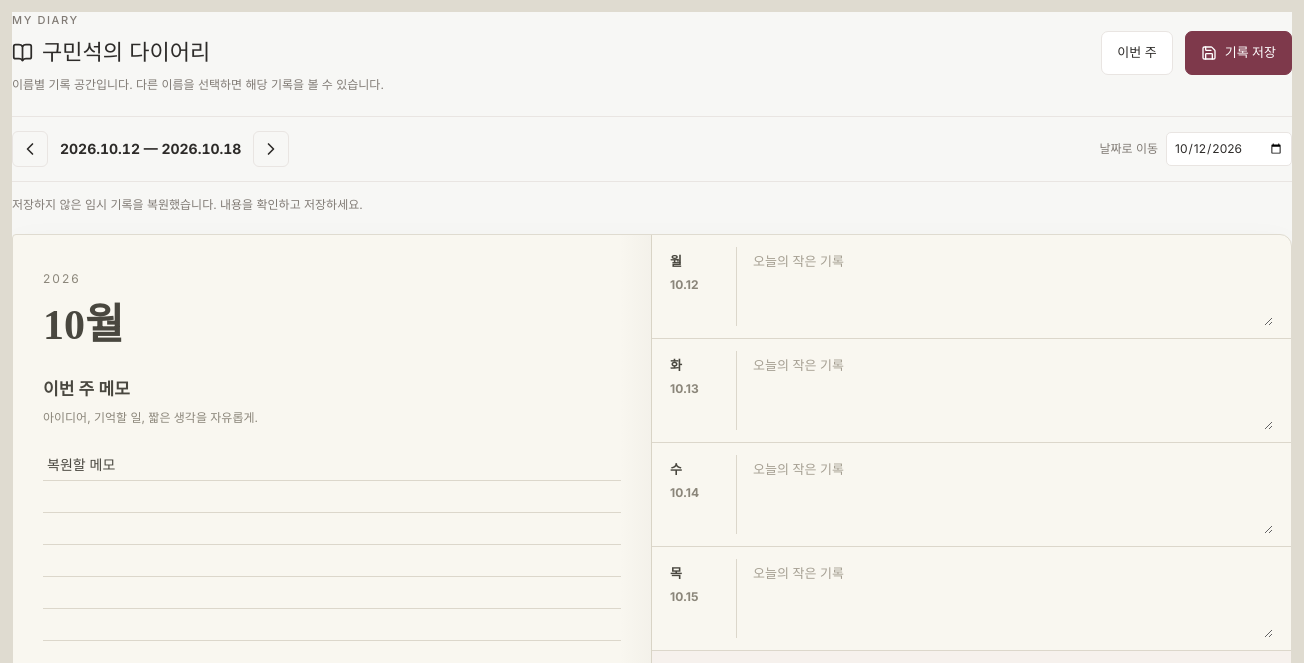
personal diary persistence › clears only the current member/week draft after a successful save
Click the button "기록 저장" at (1238, 53), box x1=1185 y1=31 x2=1292 y2=74
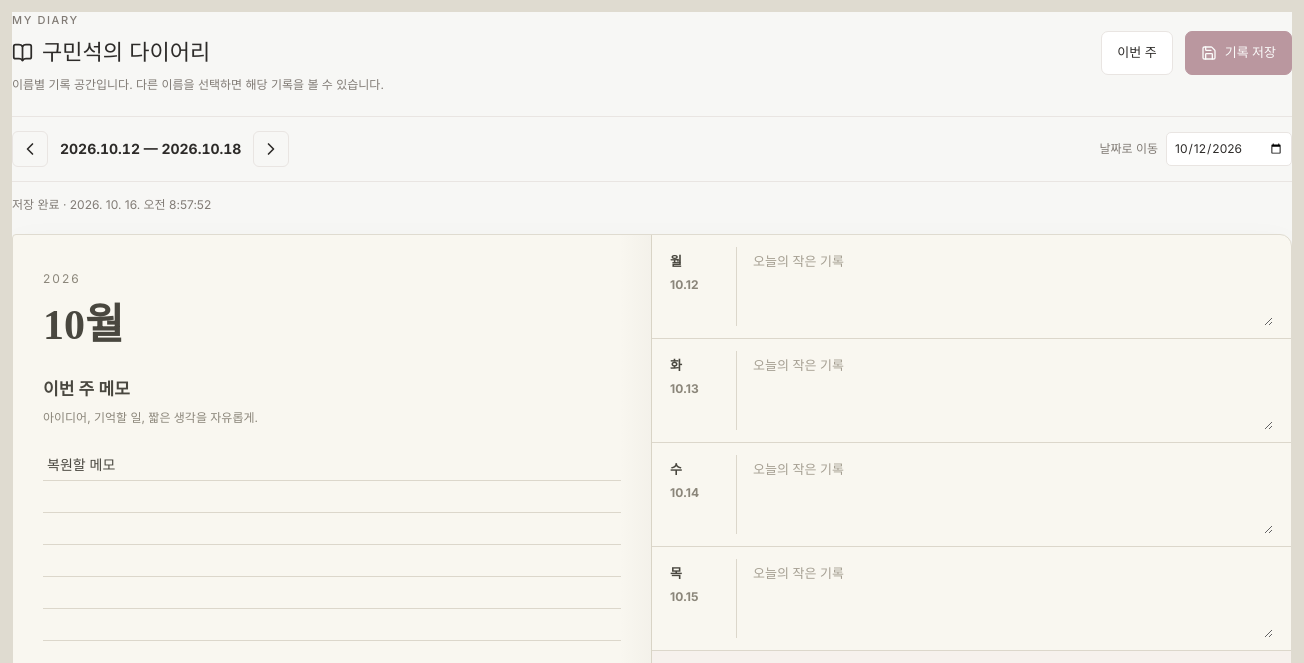
Expected: the text "저장 완료" is shown, x1=12 y1=196 x2=211 y2=212
